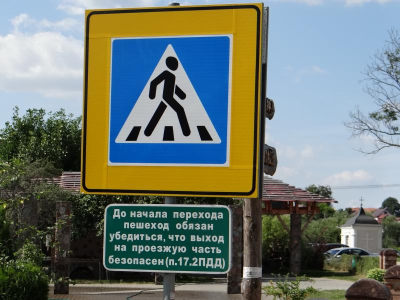crosswalk: (113, 40, 225, 161)
